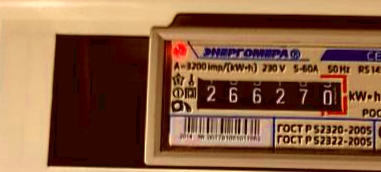0: (321, 86, 332, 107)
2: (204, 82, 218, 103), (274, 85, 286, 106)
6: (227, 84, 239, 105), (251, 85, 263, 104)
7: (297, 86, 309, 105)
screen: (183, 65, 357, 124)
